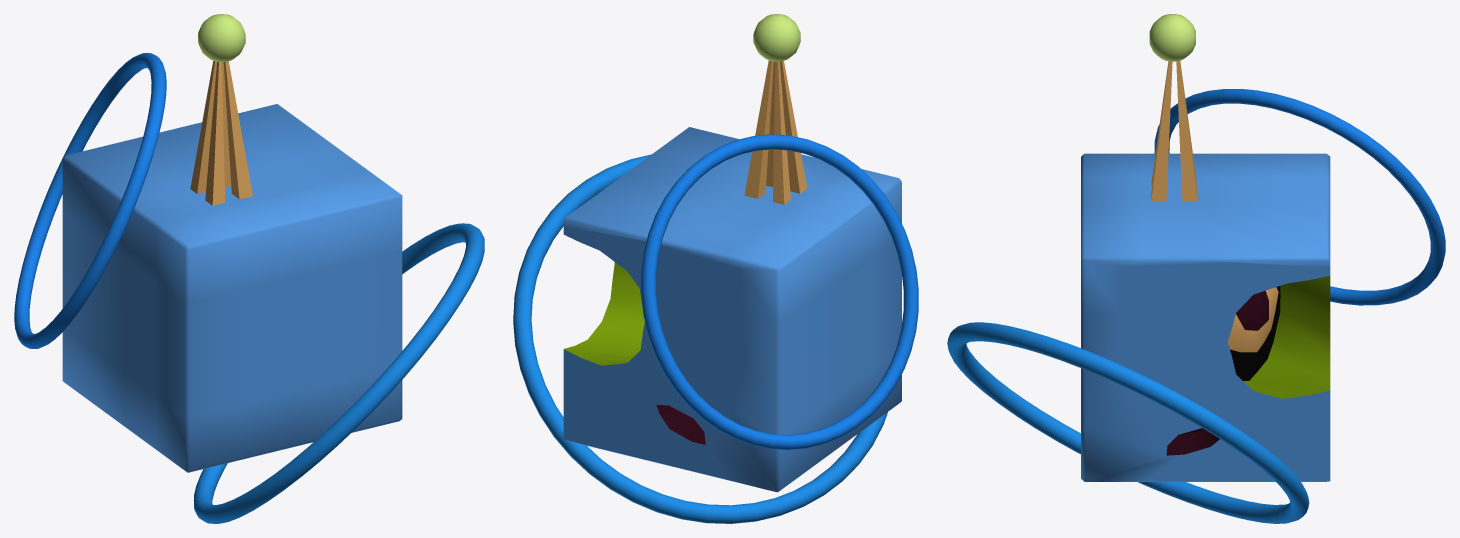
The model's file is Floating_Speaker_2.fbx.
3 views of the same model, side by side, from view 1: azimuth 30°, elevation 25°; view 2: azimuth 150°, elevation 25°; view 3: azimuth 270°, elevation 25° (orthographic).
Visible parts, largest first — view 1: Cube.001, Torus, Torus.001, Sphere; view 2: Cube.001, Torus.001, Torus, Sphere; view 3: Cube.001, Torus, Torus.001, Sphere.
Boxes of the visible parts, x1=… form: Cube.001: x1=62, y1=61, x2=402, y2=472; Torus: x1=193, y1=223, x2=484, y2=523; Torus.001: x1=14, y1=53, x2=166, y2=348; Sphere: x1=198, y1=14, x2=245, y2=61; Cube.001: x1=563, y1=60, x2=901, y2=492; Torus.001: x1=641, y1=134, x2=918, y2=449; Torus: x1=513, y1=154, x2=887, y2=523; Sphere: x1=753, y1=14, x2=800, y2=61; Cube.001: x1=1081, y1=61, x2=1330, y2=481; Torus: x1=947, y1=322, x2=1309, y2=523; Torus.001: x1=1154, y1=89, x2=1445, y2=305; Sphere: x1=1149, y1=14, x2=1195, y2=61.
Size of the model in its own units: 361 by 435 by 400.
